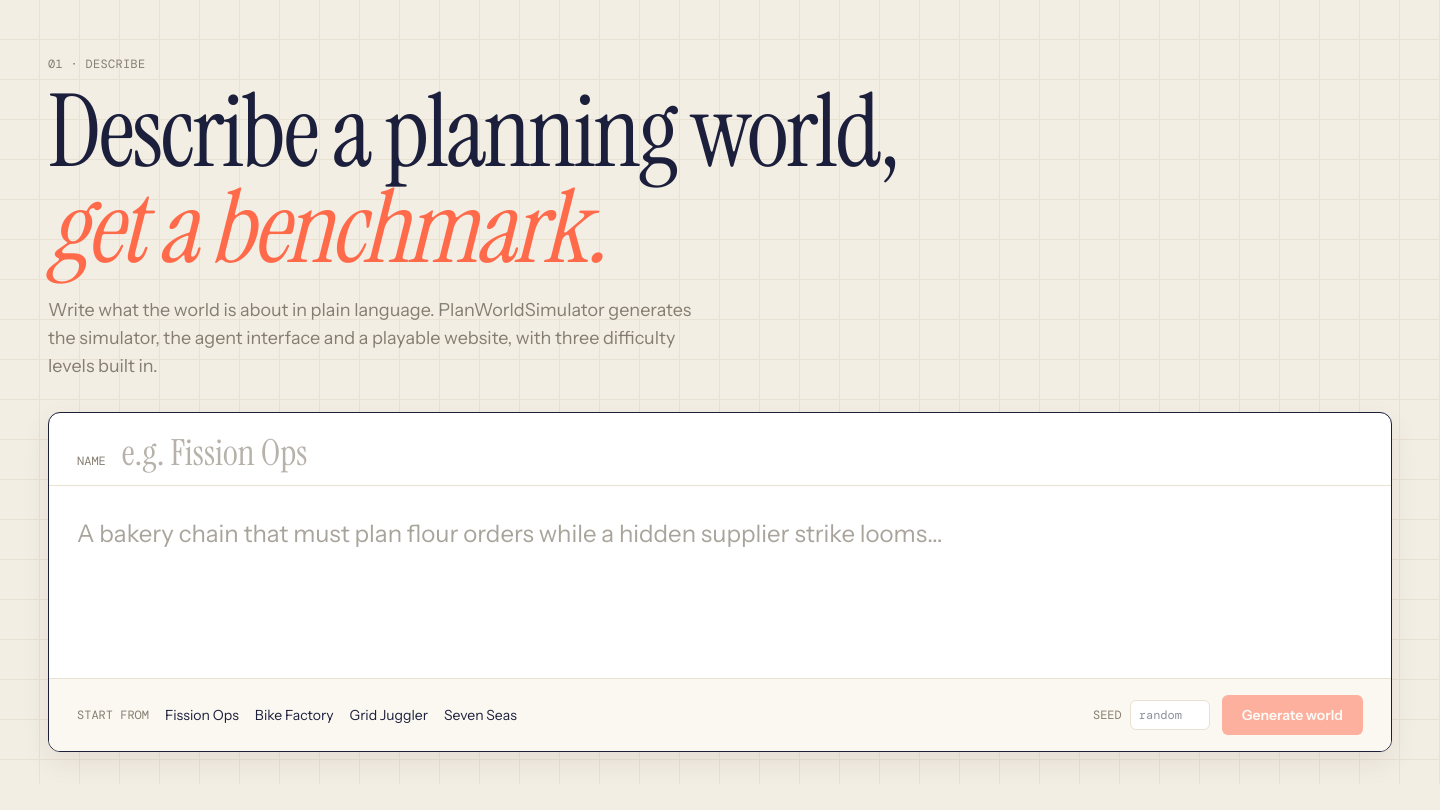
Scenario: disables Generate until both a name and a prompt are written
Check: the button "Generate world" is disabled, box top-left (1222, 694), bottom-right (1363, 734)
Type "A bakery" into the text box named "describe your benchmark" at (720, 582), box top-left (49, 486), bottom-right (1391, 678)
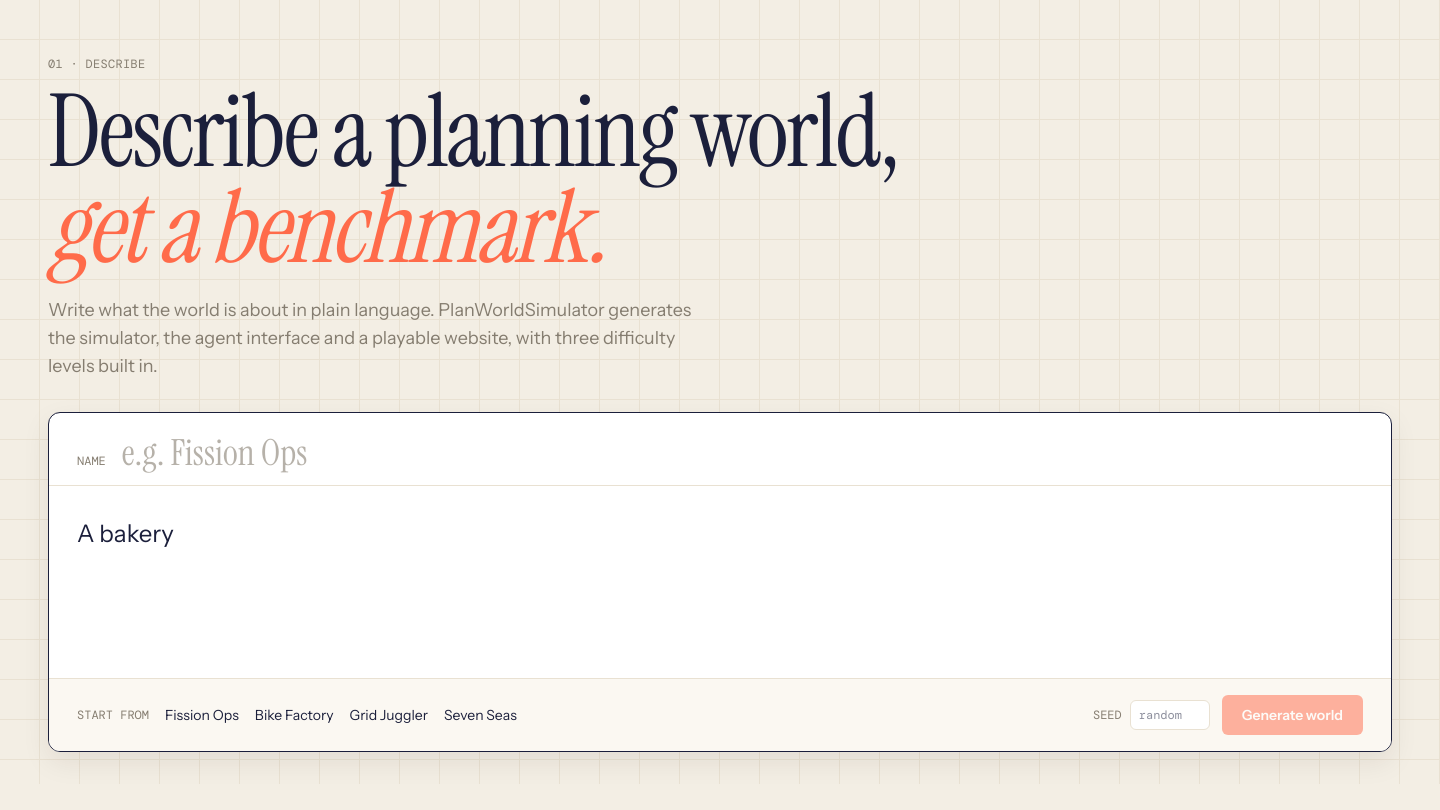
Check: the button "Generate world" is disabled, box top-left (1222, 694), bottom-right (1363, 734)
Type "Bakery" into the field named "World name" at (742, 452), box top-left (122, 432), bottom-right (1363, 472)
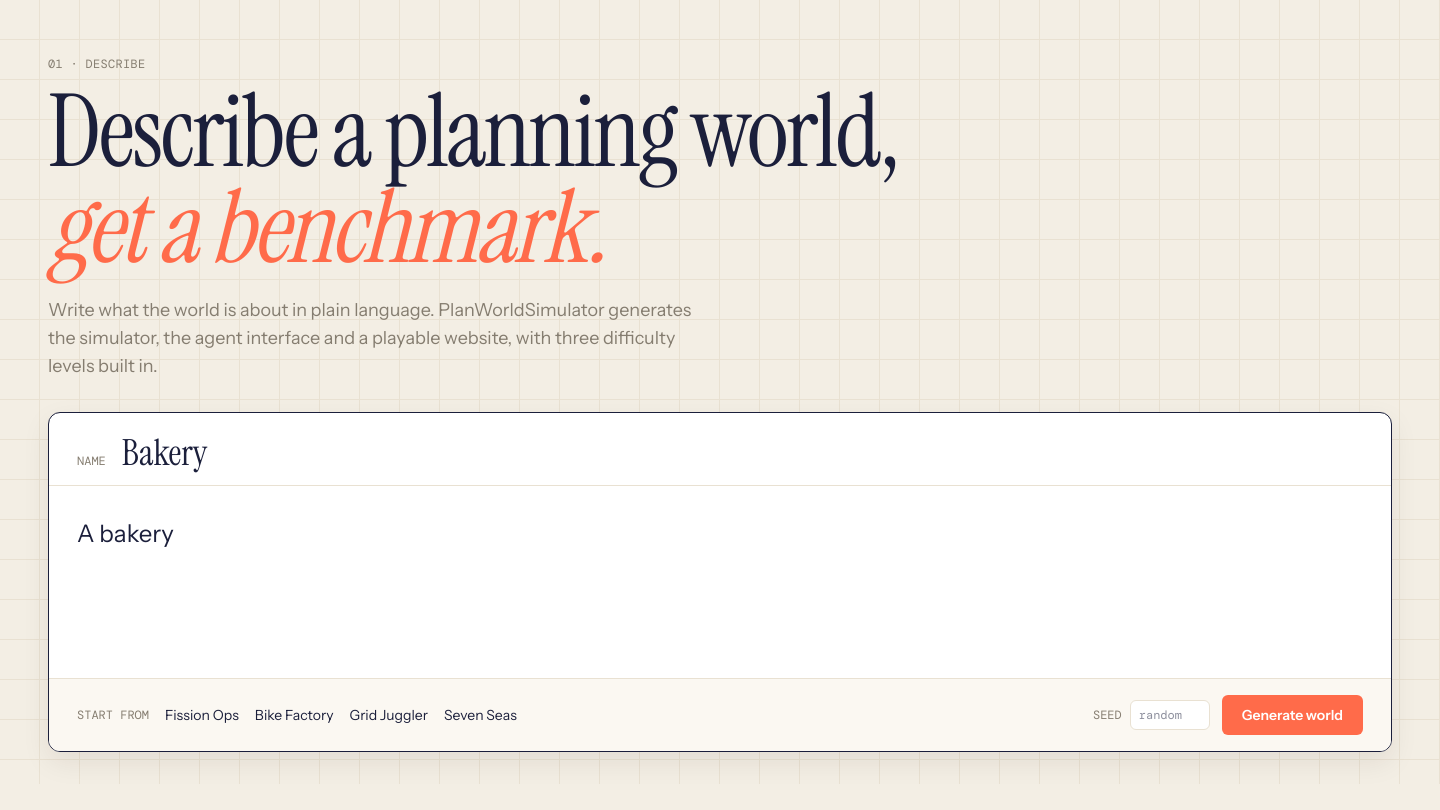
Check: the button "Generate world" is enabled, box top-left (1222, 694), bottom-right (1363, 734)
